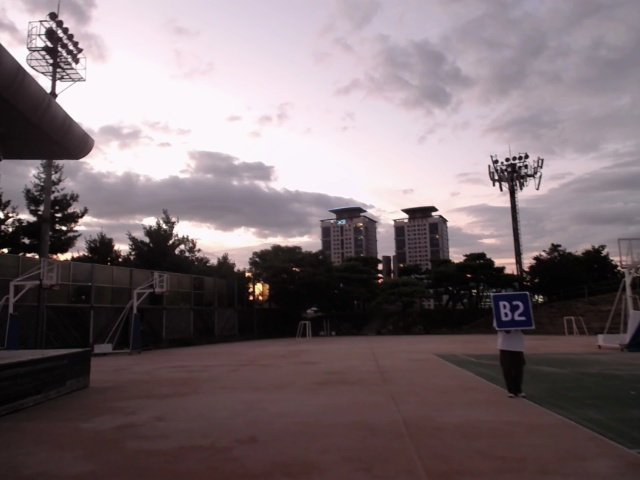delivery_b2: (489, 292, 535, 331)
